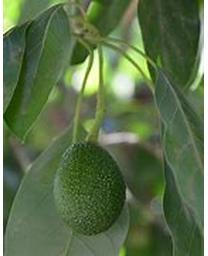avocado: (54, 143, 128, 238)
